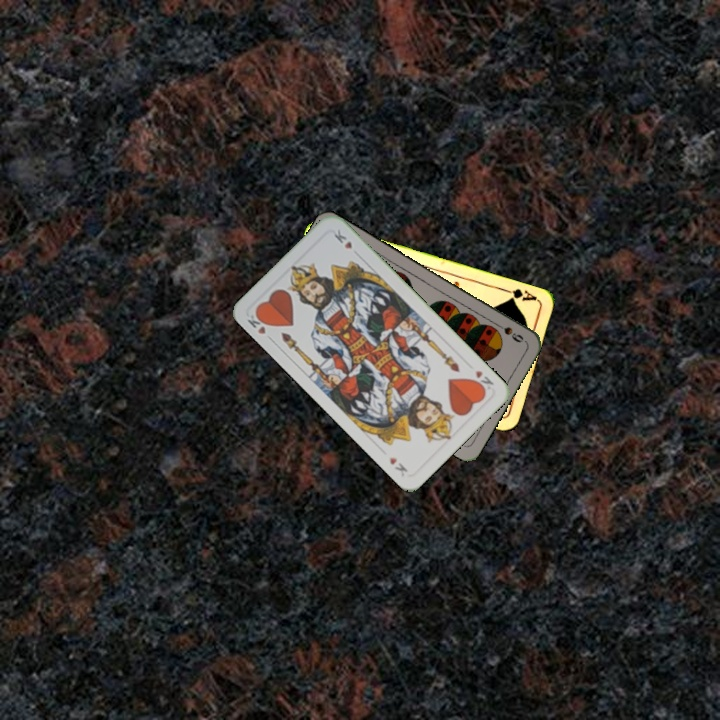GA: (499, 284, 539, 304)
HK: (243, 307, 276, 344), (468, 367, 496, 394)
S9: (490, 318, 526, 345)
